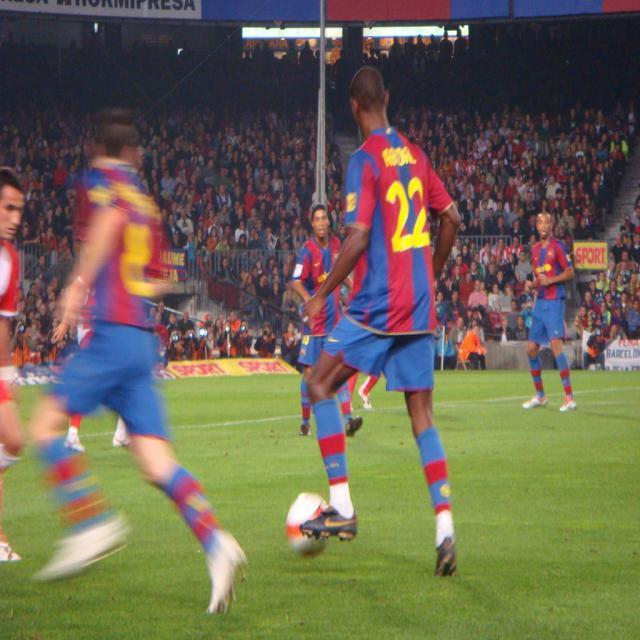football: (269, 473, 337, 565)
